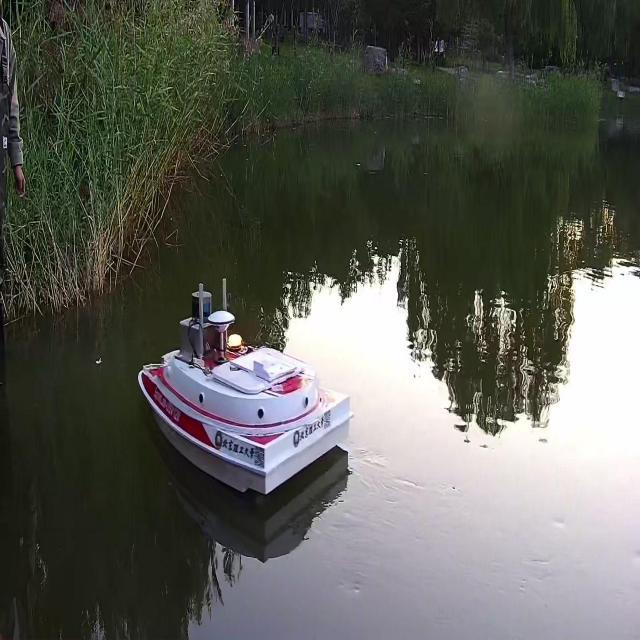CIV_Ship: (136, 288, 360, 500)
